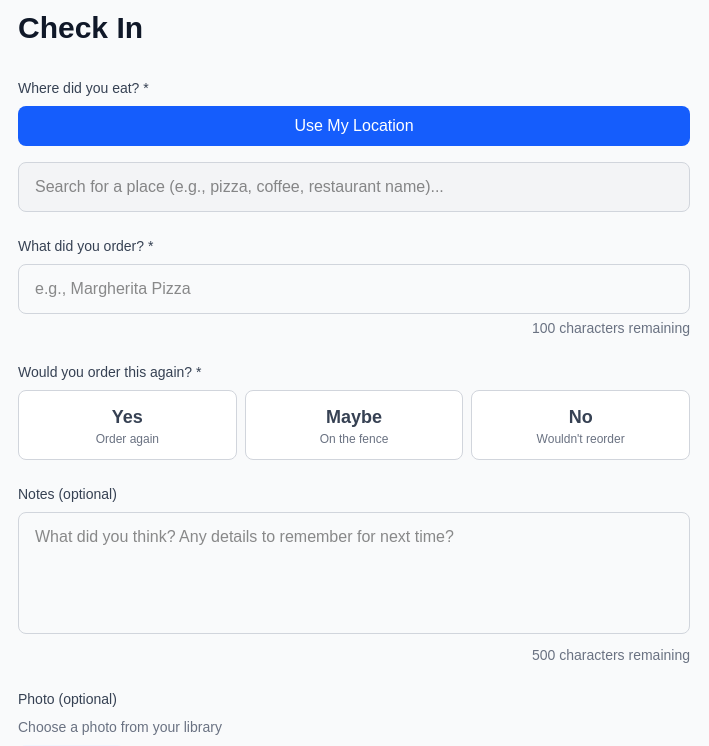
Test: CheckInPage › Character limits › should show dish character counter
The image size is (709, 746).
expect the text "100 characters remaining" is shown: met, box top-left (532, 320), bottom-right (690, 336)
Note: Type 10 characters
Type "Test Dish!" into the field with placeholder "e.g., Margherita Pizza".
click(354, 289); type("Test Dish!")  # box top-left (18, 264), bottom-right (690, 314)
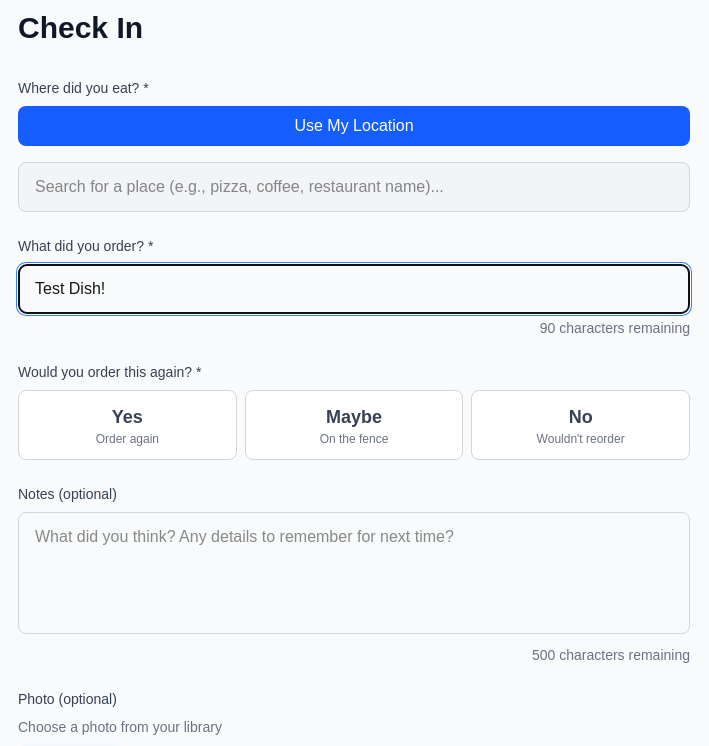
expect the text "90 characters remaining" is shown: met, box top-left (540, 320), bottom-right (690, 336)
